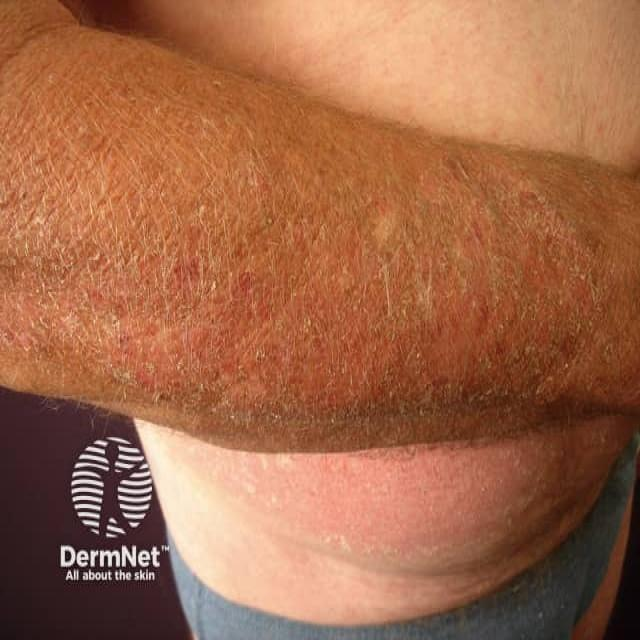Eczema: (24, 195, 577, 423)
